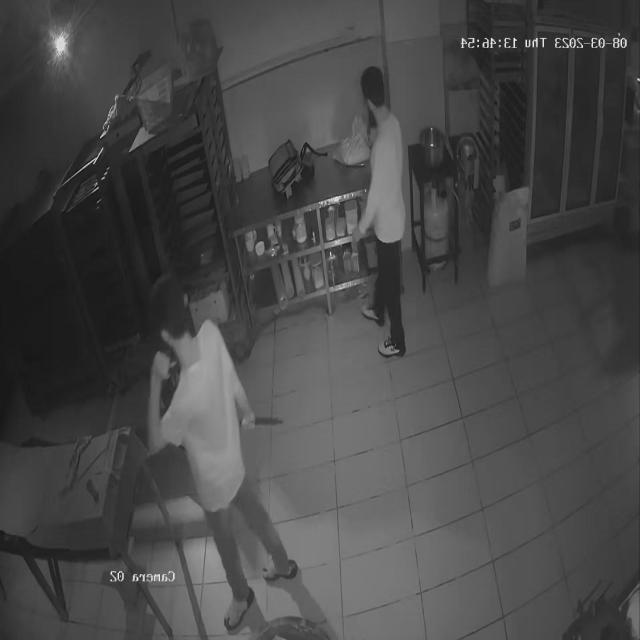Knife: (238, 406, 294, 436)
